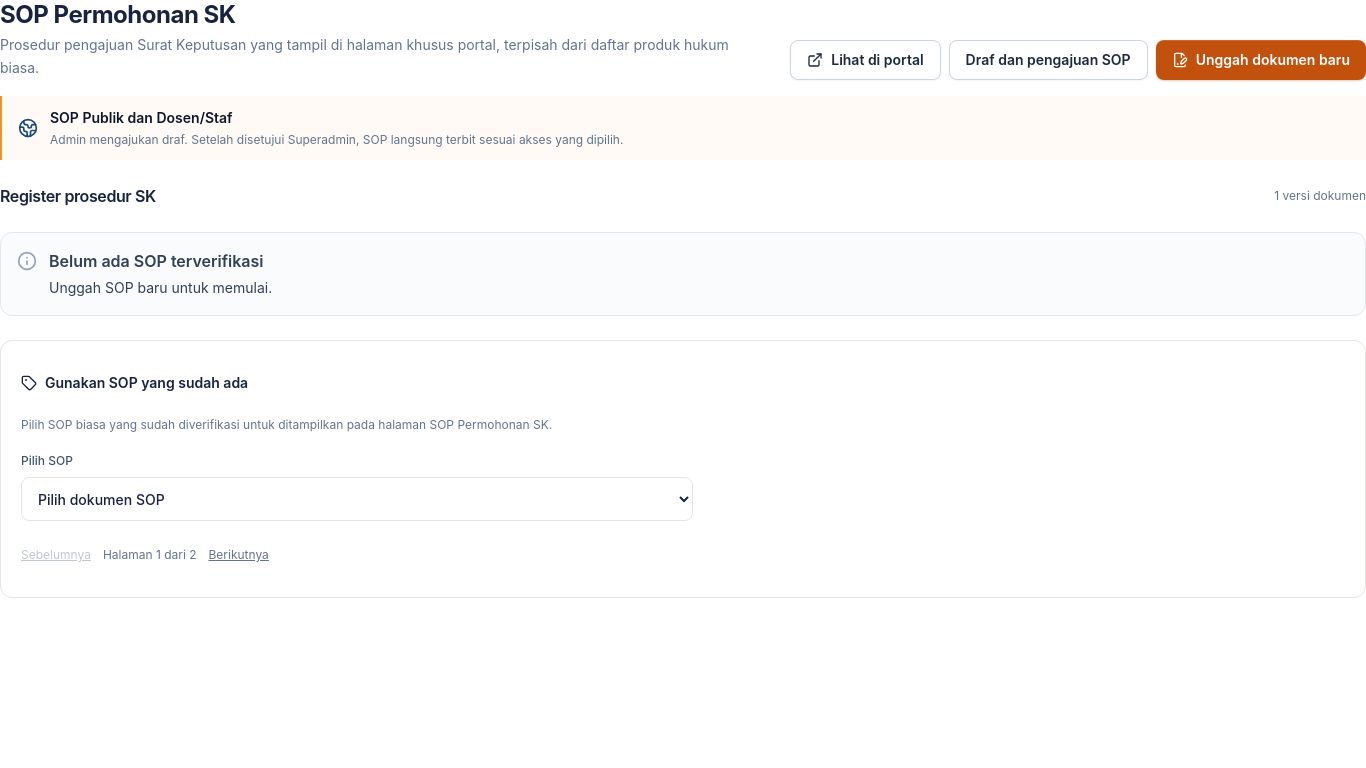
Admin membaca dokumen tanpa tindakan Superadmin; SOP khusus Superadmin › SOP lama dipilih melalui dropdown berhalaman dan tetap memerlukan konfirmasi
Select "SOP layanan unit · No. 12" in the dropdown labelled "Pilih SOP" at [357, 499], box [21,477,693,521]
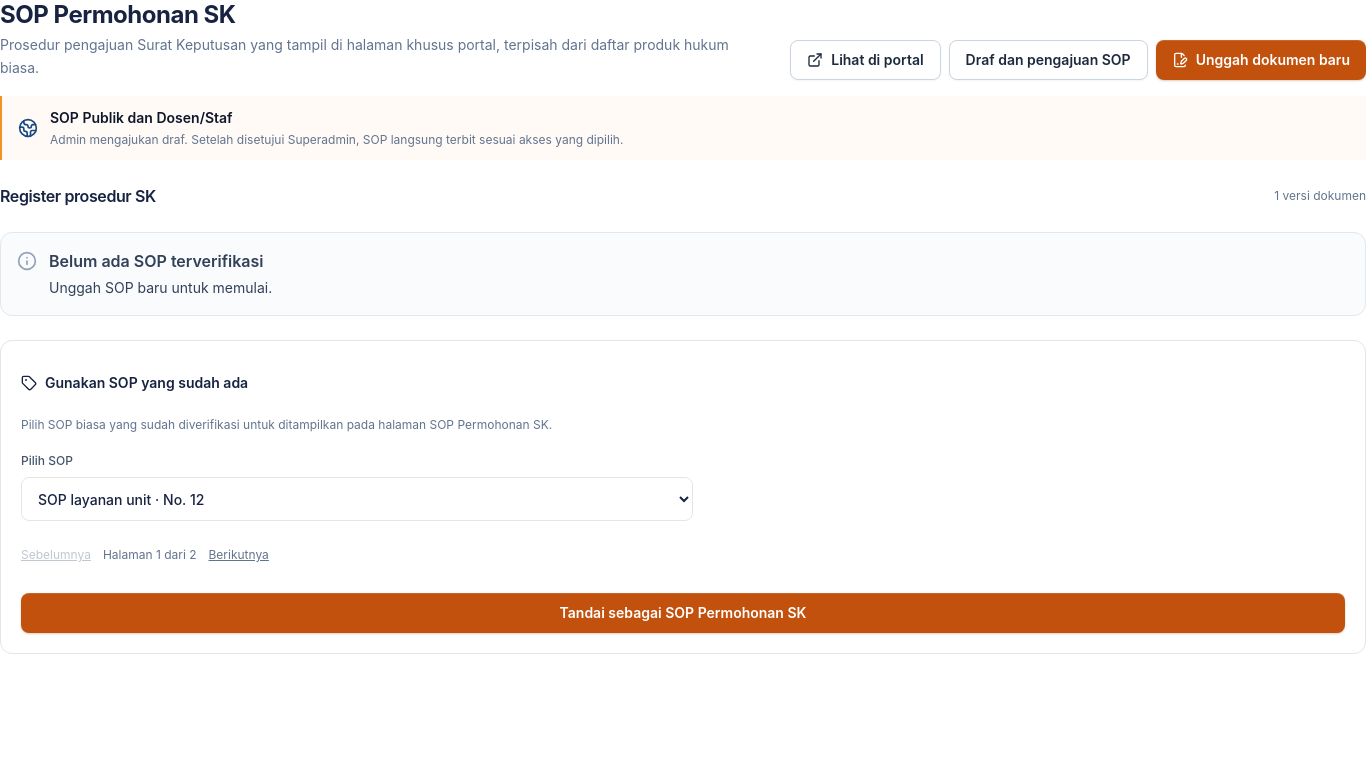
Click the button "Tandai sebagai SOP Permohonan SK" at [683, 613], box [21,593,1345,633]
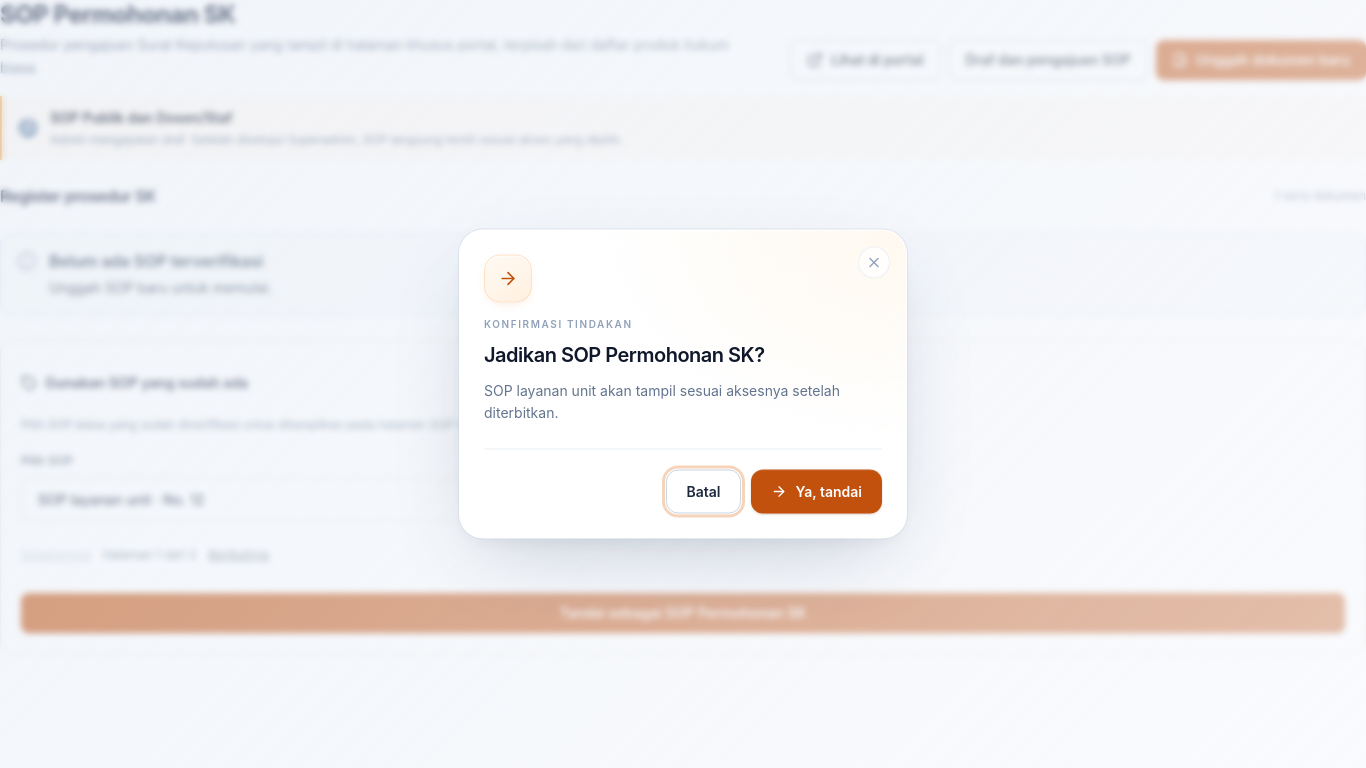
Result: the dialog "Jadikan SOP Permohonan SK?" is shown at [459,230,907,538]
Click the button "Batal" at [704, 492], box [666,470,742,514]
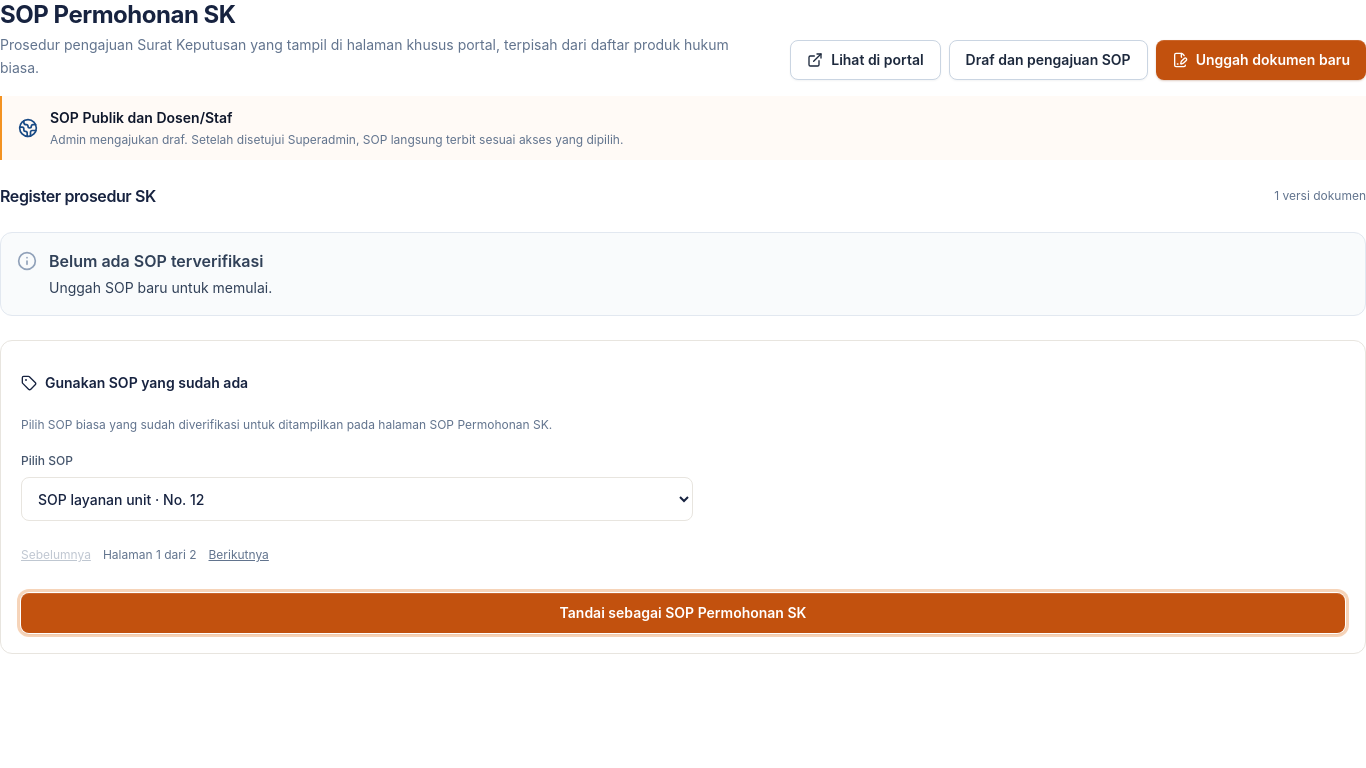
Result: the dialog is gone
